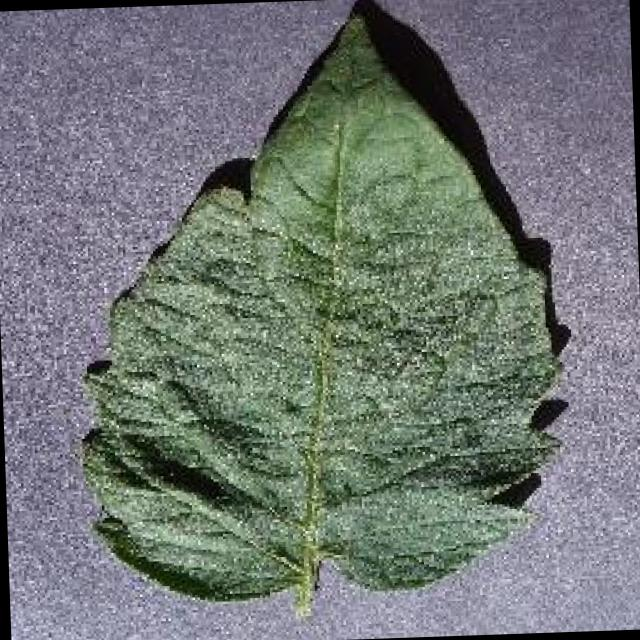Tomato_Healthy: (62, 18, 577, 607)
